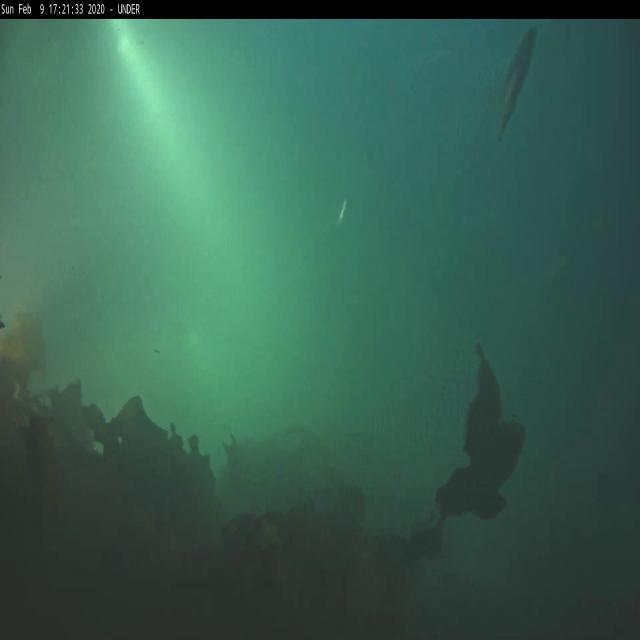fish: (501, 34, 539, 130), (338, 196, 348, 228)
